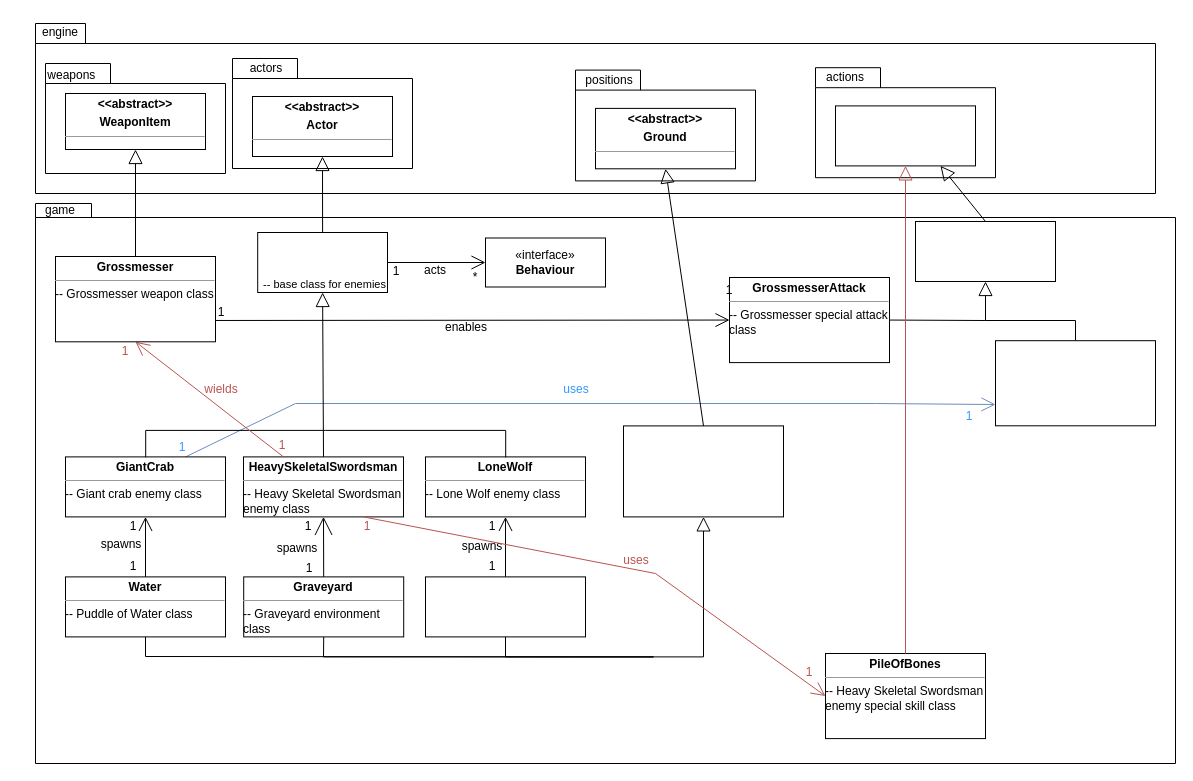
The diagram is 1193 pixels wide and 781 high, and some of its shapes have lost their labels. The centre of each missing label's shape, as x and y in pixels:
"<<abstract>> Action" belongs at [905,135].
"<<abstract>> Enemy" belongs at [322,262].
"<<abstract>> GroundSpawner -- base class for grounds which spawn enemies" belongs at [703,471].
"AttackAction" belongs at [985,251].
"SlamAttack -- Giant Crab enemy special attack class" belongs at [1075,383].
"Wind -- Gust of Wind environment class" belongs at [505,606].
